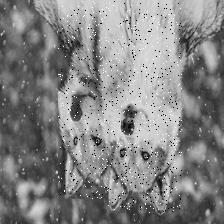WOLF: (108, 2, 182, 212), (59, 0, 123, 198)
